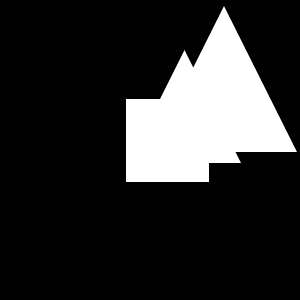circle: (126, 99, 209, 182)
rectangle: (204, 69, 240, 104)
triangle: (151, 6, 297, 152), (128, 50, 241, 163)
